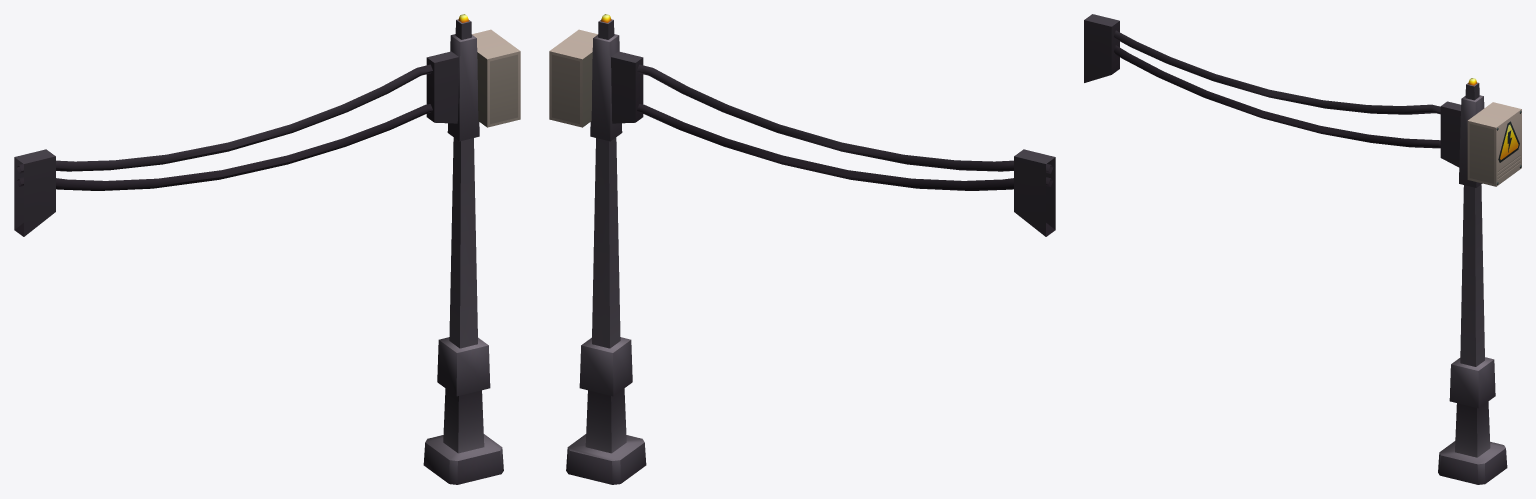
Rendered from Cable_Pole_1A.fbx.
The picture shows the model from 3 angles, left to right: view 1: azimuth 30°, elevation 25°; view 2: azimuth 150°, elevation 25°; view 3: azimuth 330°, elevation 25°; orthographic projection. The views are drawn at different scales.
Visible parts, largest first — view 1: Cable_Pole_1A; view 2: Cable_Pole_1A; view 3: Cable_Pole_1A.
Boxes of the visible parts, box(x1,y1,x2,y2) form: Cable_Pole_1A: box(14, 14, 520, 484); Cable_Pole_1A: box(549, 14, 1055, 484); Cable_Pole_1A: box(1084, 14, 1521, 484).
Bounding box in the file's own units: 8.78 × 7.78 × 0.9852.
